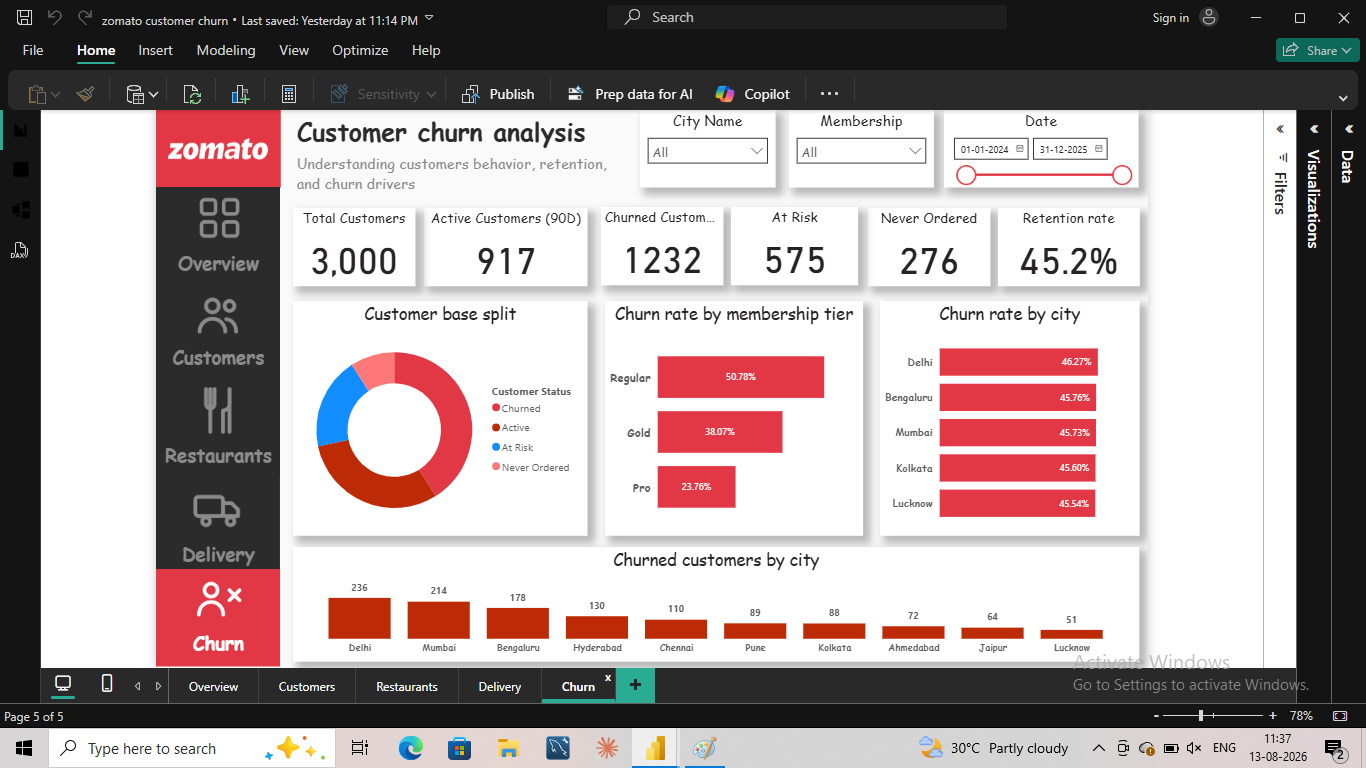

The page's visual inventory and layout, read from the dashboard file:
{"tool":"powerbi","page":{"name":"Churn","canvas":[1280,720],"ordinal":4},"visuals":[{"type":"slicer","title":"City Name","fields":{"Values":["cities.city_name"]},"box":[625.1,0,175.2,99.5],"z":0},{"type":"slicer","title":"Membership","fields":{"Values":["memberships.membership_name"]},"box":[816.2,0,187.1,99.5],"z":1000},{"type":"slicer","title":"Date","fields":{"Values":["orders.order_datetime"]},"box":[1017.2,0,250.8,99.5],"z":2000},{"type":"textbox","box":[177.2,0,398.1,63.7],"z":3000},{"type":"shape","box":[0,99.8,160.5,125.8],"z":3000,"group":"g5"},{"type":"textbox","box":[177.2,49.8,424,73.7],"z":4000},{"type":"shape","box":[0,224.1,160.5,124.3],"z":4000,"group":"g2"},{"type":"donutChart","title":"Customer base split","fields":{"Y":["CountNonNull(customers.Customer Status)"],"Category":["customers.Customer Status"]},"box":[176.8,246.2,380.4,303],"z":5000},{"type":"shape","box":[0,347,160.5,124.3],"z":5000,"group":"g3"},{"type":"barChart","title":"Churn rate by membership tier","fields":{"Category":["memberships.membership_name"],"Y":["customers.Churn Rate"]},"box":[579.2,246.2,333,303],"z":6000},{"type":"shape","box":[0,467.8,159.9,126.1],"z":6000,"group":"g4"},{"type":"barChart","title":"Churn rate by city","fields":{"Category":["cities.city_name"],"Y":["customers.Churn Rate"]},"box":[934.4,246.2,334.6,303],"z":7000},{"type":"shape","box":[0,592.2,160.5,125.8],"z":7000,"group":"g6"},{"type":"shape","box":[0,0,161,100],"z":8000,"group":"g1"},{"type":"card","title":"Active Customers (90D)","fields":{"Values":["CountNonNull(customers.Customer Status)"]},"box":[345.6,126.3,211.5,101],"z":8000},{"type":"group","id":"g1","title":"Group 1","box":[0,0,161,100],"z":9000},{"type":"image","box":[0,8.7,160.5,82.4],"z":10000,"group":"g1"},{"type":"group","id":"g2","title":"Group 3","box":[0,224.1,161,125.1],"z":10000},{"type":"textbox","box":[0,176.3,161,47.5],"z":11000,"group":"g5"},{"type":"group","id":"g3","title":"Group 4","box":[0,347,161,129.3],"z":11000},{"type":"textbox","box":[0,296.6,161,52.5],"z":12000,"group":"g2"},{"type":"group","id":"g4","title":"Group 2","box":[0,467.8,160.9,126.1],"z":12000},{"type":"group","id":"g5","title":"Group 5","box":[0,99.8,161,125.8],"z":13000},{"type":"textbox","box":[0,423.7,161,52.5],"z":13000,"group":"g3"},{"type":"textbox","box":[0,550,160.9,43.9],"z":14000,"group":"g4"},{"type":"group","id":"g6","title":"Group 6","box":[0,592.2,161,126.1],"z":14000},{"type":"actionButton","box":[0,222.4,160.9,124.3],"z":15000},{"type":"textbox","box":[0,665.8,161,52.5],"z":15000,"group":"g6"},{"type":"image","box":[18.6,225.4,125.4,76.3],"z":16000,"group":"g2"},{"type":"actionButton","box":[0,343.8,160.9,124.3],"z":16000},{"type":"image","box":[18.6,349.2,125.4,76.3],"z":17000,"group":"g3"},{"type":"actionButton","box":[0,472.5,160.9,124.3],"z":17000},{"type":"actionButton","box":[0,100.9,160.9,124.3],"z":18000},{"type":"image","box":[18.6,474.2,125,76.5],"z":18000,"group":"g4"},{"type":"card","title":"Total Customers","fields":{"Values":["CountNonNull(customers.Customer Status)"]},"box":[176.8,126.3,157.8,101],"z":19000},{"type":"image","box":[17.6,103.9,127.3,71.7],"z":19002,"group":"g5"},{"type":"image","box":[17.6,593.4,127.3,73.1],"z":19003,"group":"g6"},{"type":"card","title":"Never Ordered","fields":{"Values":["CountNonNull(customers.Customer Status)"]},"box":[918.6,126.3,157.8,101],"z":20000},{"type":"card","title":"Churned Customers","fields":{"Values":["customers.Churned Customer"]},"box":[574.5,124.7,157.8,101],"z":21000},{"type":"card","title":"At Risk","fields":{"Values":["CountNonNull(customers.Customer Status)"]},"box":[741.8,124.7,164.1,101],"z":22000},{"type":"card","title":"Retention rate","fields":{"Values":["customers.Churn Rate"]},"box":[1085.9,126.3,183.1,101],"z":23000},{"type":"columnChart","title":"Churned customers by city","fields":{"Category":["cities.city_name"],"Y":["customers.Churned Customer"]},"box":[176.8,563.5,1092.2,148.4],"z":24000}]}

Visuals, with their boxes on the page's 1280x720 design canvas (x1, y1, x2, y2). These are canvas units, not pixel positions in the 1366x768 screenshot, which may show the page scaled, cropped or inside an application window:
"City Name" slicer: {"left": 625, "top": 0, "right": 800, "bottom": 100}
"Membership" slicer: {"left": 816, "top": 0, "right": 1003, "bottom": 100}
"Date" slicer: {"left": 1017, "top": 0, "right": 1268, "bottom": 100}
textbox: {"left": 177, "top": 0, "right": 575, "bottom": 64}
shape: {"left": 0, "top": 100, "right": 160, "bottom": 226}
textbox: {"left": 177, "top": 50, "right": 601, "bottom": 124}
shape: {"left": 0, "top": 224, "right": 160, "bottom": 348}
"Customer base split" donutChart: {"left": 177, "top": 246, "right": 557, "bottom": 549}
shape: {"left": 0, "top": 347, "right": 160, "bottom": 471}
"Churn rate by membership tier" barChart: {"left": 579, "top": 246, "right": 912, "bottom": 549}
shape: {"left": 0, "top": 468, "right": 160, "bottom": 594}
"Churn rate by city" barChart: {"left": 934, "top": 246, "right": 1269, "bottom": 549}
shape: {"left": 0, "top": 592, "right": 160, "bottom": 718}
shape: {"left": 0, "top": 0, "right": 161, "bottom": 100}
"Active Customers (90D)" card: {"left": 346, "top": 126, "right": 557, "bottom": 227}
"Group 1" group: {"left": 0, "top": 0, "right": 161, "bottom": 100}
image: {"left": 0, "top": 9, "right": 160, "bottom": 91}
"Group 3" group: {"left": 0, "top": 224, "right": 161, "bottom": 349}
textbox: {"left": 0, "top": 176, "right": 161, "bottom": 224}
"Group 4" group: {"left": 0, "top": 347, "right": 161, "bottom": 476}
textbox: {"left": 0, "top": 297, "right": 161, "bottom": 349}
"Group 2" group: {"left": 0, "top": 468, "right": 161, "bottom": 594}
"Group 5" group: {"left": 0, "top": 100, "right": 161, "bottom": 226}
textbox: {"left": 0, "top": 424, "right": 161, "bottom": 476}
textbox: {"left": 0, "top": 550, "right": 161, "bottom": 594}
"Group 6" group: {"left": 0, "top": 592, "right": 161, "bottom": 718}
actionButton: {"left": 0, "top": 222, "right": 161, "bottom": 347}
textbox: {"left": 0, "top": 666, "right": 161, "bottom": 718}
image: {"left": 19, "top": 225, "right": 144, "bottom": 302}
actionButton: {"left": 0, "top": 344, "right": 161, "bottom": 468}
image: {"left": 19, "top": 349, "right": 144, "bottom": 426}
actionButton: {"left": 0, "top": 472, "right": 161, "bottom": 597}
actionButton: {"left": 0, "top": 101, "right": 161, "bottom": 225}
image: {"left": 19, "top": 474, "right": 144, "bottom": 551}
"Total Customers" card: {"left": 177, "top": 126, "right": 335, "bottom": 227}
image: {"left": 18, "top": 104, "right": 145, "bottom": 176}
image: {"left": 18, "top": 593, "right": 145, "bottom": 666}
"Never Ordered" card: {"left": 919, "top": 126, "right": 1076, "bottom": 227}
"Churned Customers" card: {"left": 574, "top": 125, "right": 732, "bottom": 226}
"At Risk" card: {"left": 742, "top": 125, "right": 906, "bottom": 226}
"Retention rate" card: {"left": 1086, "top": 126, "right": 1269, "bottom": 227}
"Churned customers by city" columnChart: {"left": 177, "top": 564, "right": 1269, "bottom": 712}
